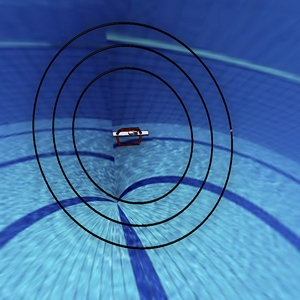circle: (16, 6, 257, 259)
submarine: (103, 112, 153, 157)
